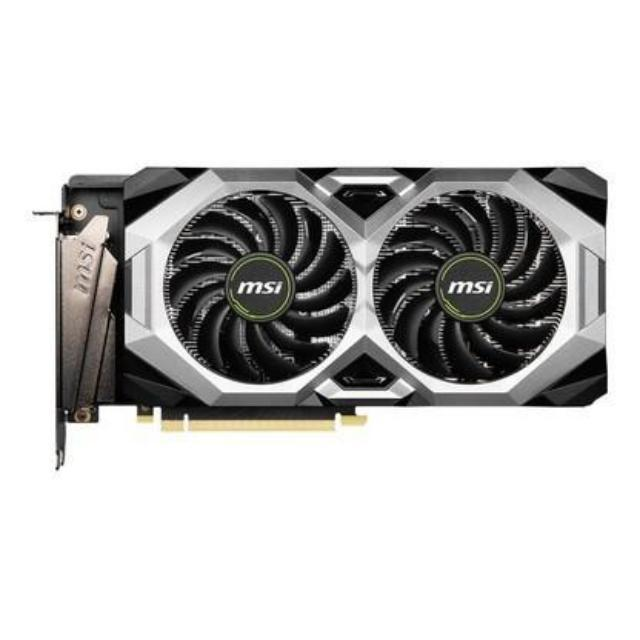GPU: (48, 156, 612, 444)
